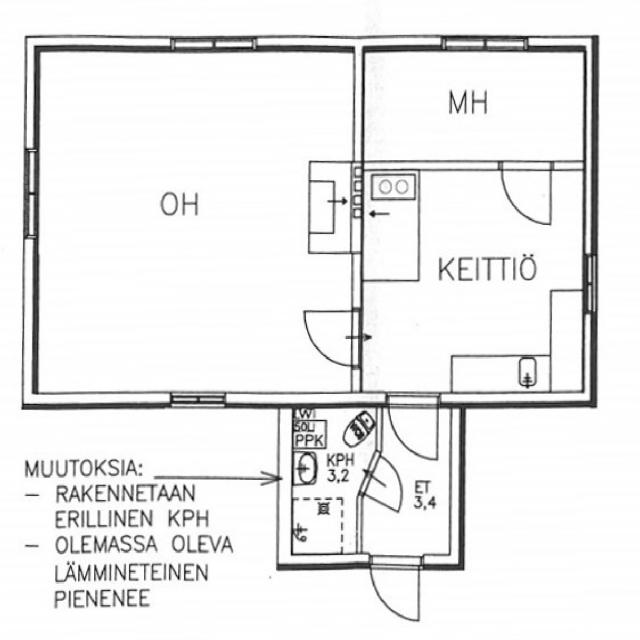door: (388, 393, 438, 462), (302, 311, 363, 366), (358, 453, 415, 511), (371, 554, 418, 623), (500, 161, 550, 225)
